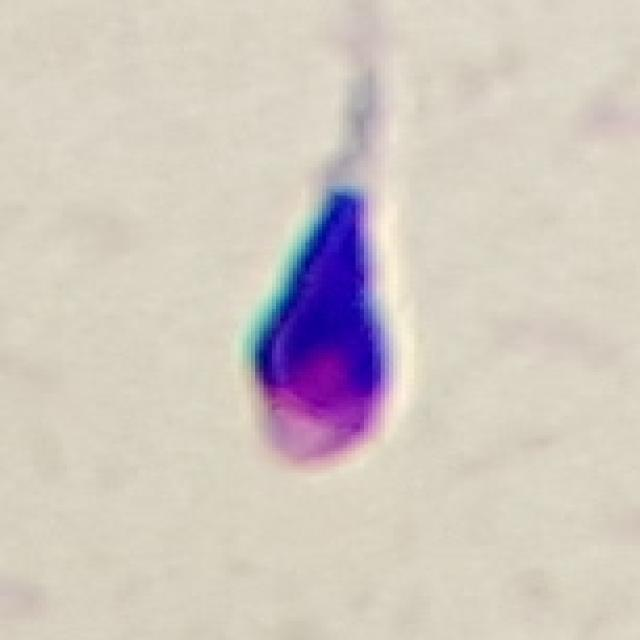abnormal sperm: (254, 5, 406, 473)
